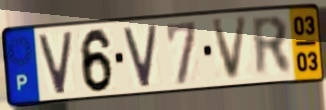6: (79, 26, 118, 95)
7: (163, 19, 199, 87)
R: (249, 14, 295, 80)
V: (209, 14, 251, 84), (36, 29, 75, 97), (121, 22, 160, 90)
